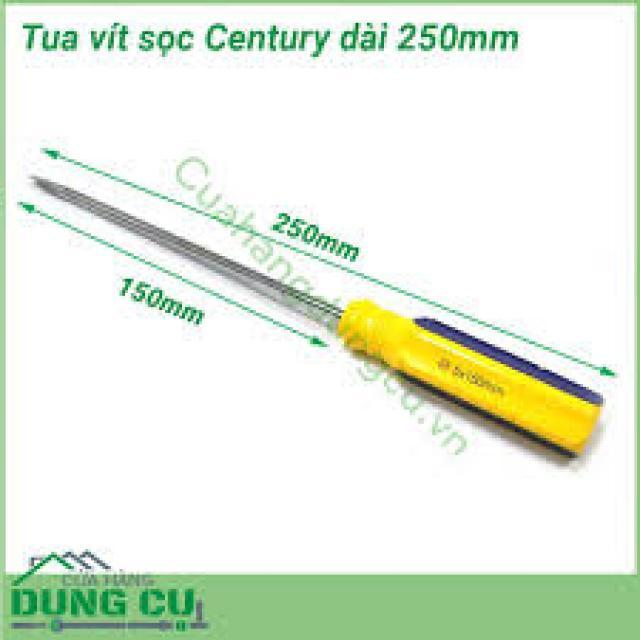screwdriver: (28, 172, 606, 465)
